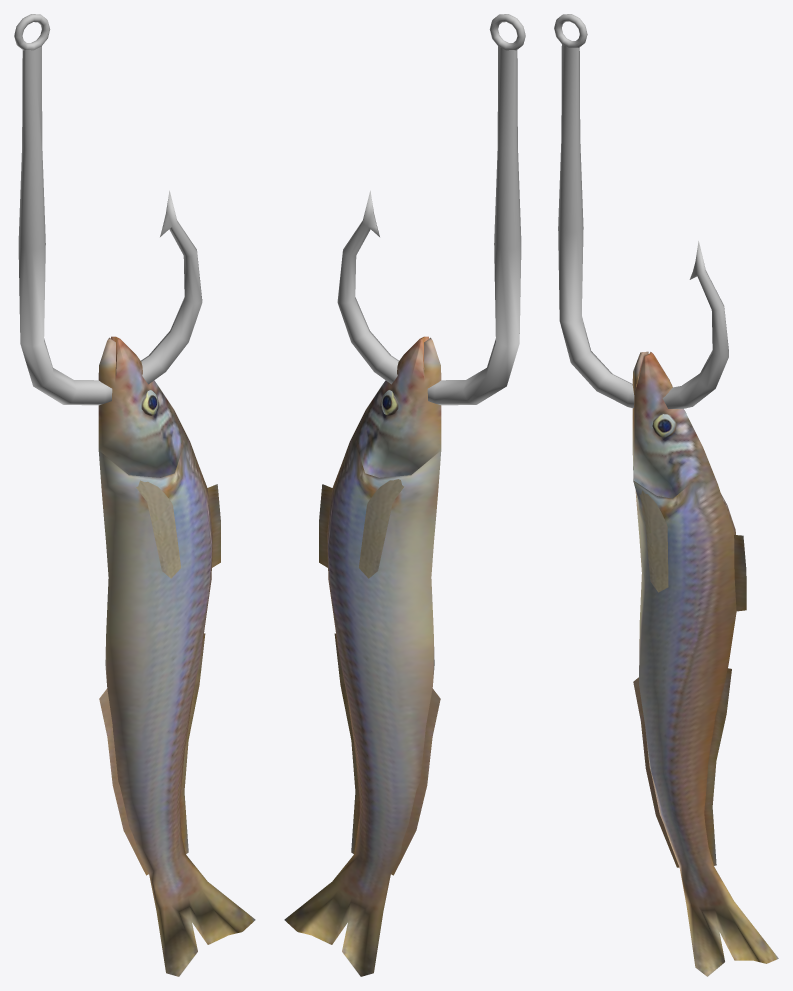
File: Bait_SandSmelt.fbx
3 views of the same model, side by side, from view 1: azimuth 30°, elevation 25°; view 2: azimuth 150°, elevation 25°; view 3: azimuth 330°, elevation 25° (orthographic). The views are drawn at different scales.
Parts seen in each view (by area): view 1: Bait_SillagoSihama; view 2: Bait_SillagoSihama; view 3: Bait_SillagoSihama.
Part boxes in pixels (x1,y1,x2,y2): Bait_SillagoSihama: (14, 14, 255, 976); Bait_SillagoSihama: (284, 14, 525, 976); Bait_SillagoSihama: (554, 14, 778, 976).
Bounding box in the file's own units: 0.2721 × 1.08 × 0.0879.
